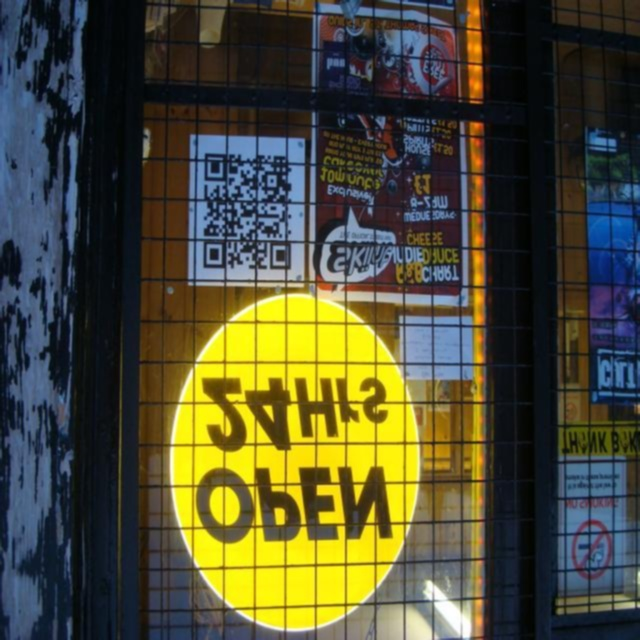qr-code: (204, 154, 291, 270)
